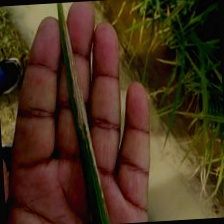Leaf_Blast: (75, 23, 96, 196)
